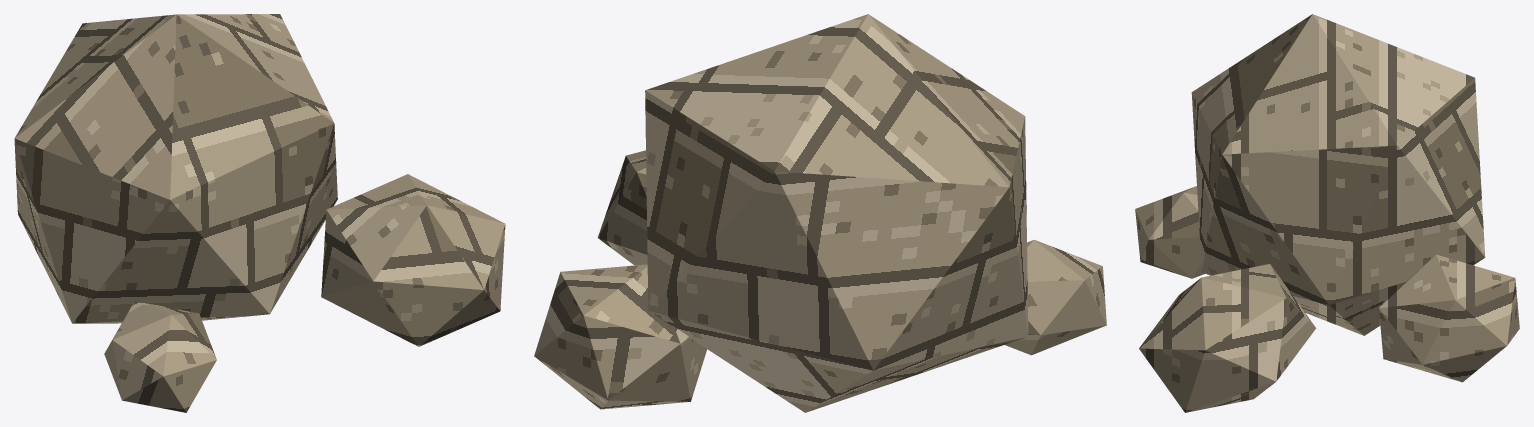
The model's file is rock_cluster_01.glb.
The picture shows the model from 3 angles, left to right: view 1: azimuth 30°, elevation 25°; view 2: azimuth 150°, elevation 25°; view 3: azimuth 270°, elevation 25°; orthographic projection. The views are drawn at different scales.
Parts seen in each view (by area): view 1: main_boulder, side_rock_0, side_rock_2; view 2: main_boulder, side_rock_1, side_rock_2, side_rock_0; view 3: main_boulder, side_rock_0, side_rock_1, side_rock_2.
Part boxes in pixels (x1,y1,x2,y2): main_boulder: (14, 14, 337, 323); side_rock_0: (321, 174, 505, 346); side_rock_2: (104, 301, 216, 412); main_boulder: (645, 14, 1028, 412); side_rock_1: (534, 264, 707, 409); side_rock_2: (1005, 239, 1106, 355); side_rock_0: (597, 150, 647, 265); main_boulder: (1191, 14, 1485, 335); side_rock_0: (1139, 264, 1316, 412); side_rock_1: (1379, 254, 1519, 382); side_rock_2: (1135, 186, 1204, 278).
Size of what is drawn, in the model's own units: 0.7943 by 0.6164 by 0.6939.
1 material, 1 textured.
